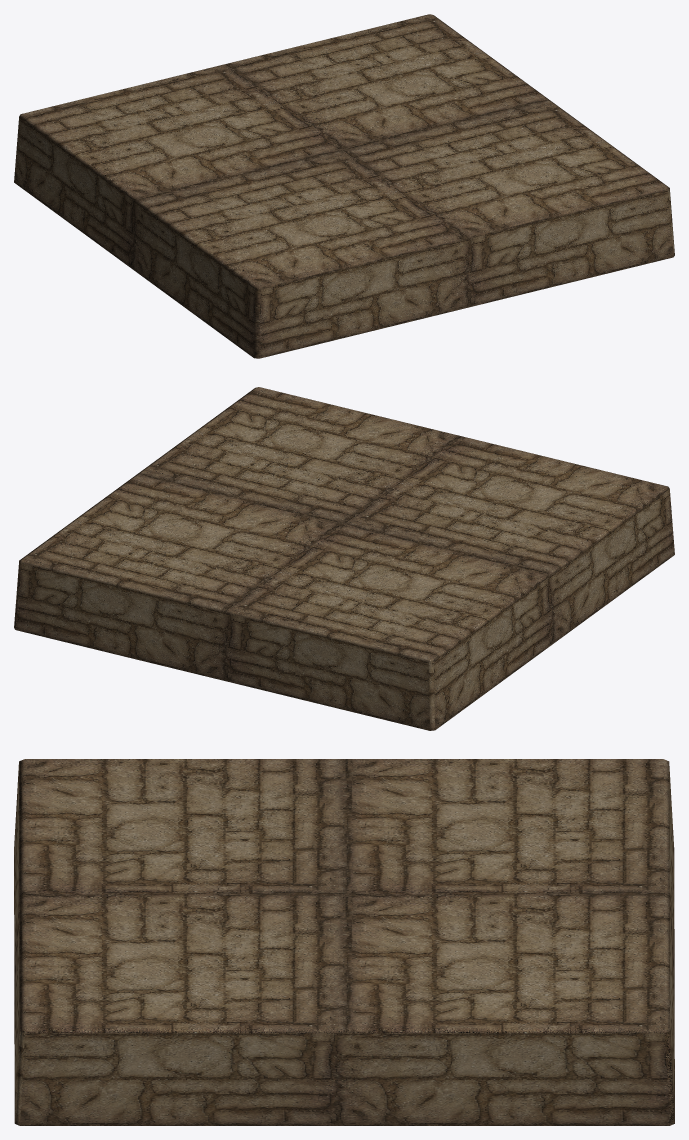
File: Stone_Base_8X8_01.fbx
3 views of the same model, one above another, from view 1: azimuth 30°, elevation 25°; view 2: azimuth 150°, elevation 25°; view 3: azimuth 270°, elevation 25° (orthographic). The views are drawn at different scales.
Parts seen in each view (by area): view 1: Stone_Base_8X8_01; view 2: Stone_Base_8X8_01; view 3: Stone_Base_8X8_01.
Boxes of the visible parts, x1,y1,x2,y2 form: Stone_Base_8X8_01: [14, 14, 674, 358]; Stone_Base_8X8_01: [14, 387, 674, 730]; Stone_Base_8X8_01: [14, 759, 674, 1125].
Size of the model in its own units: 8.45 by 1.31 by 8.48.
